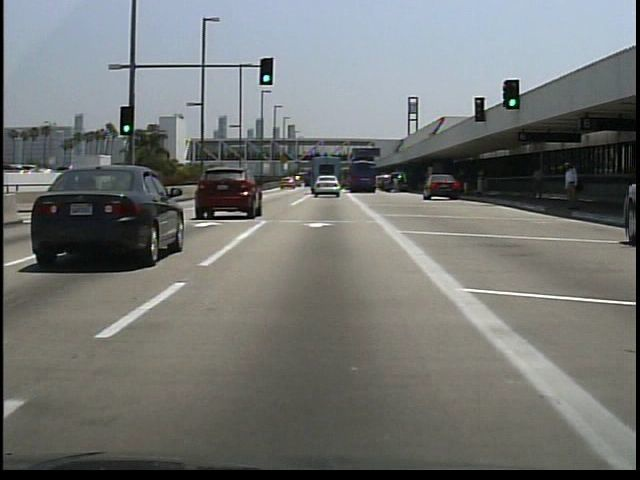person: (558, 156, 578, 214), (527, 157, 548, 205)
